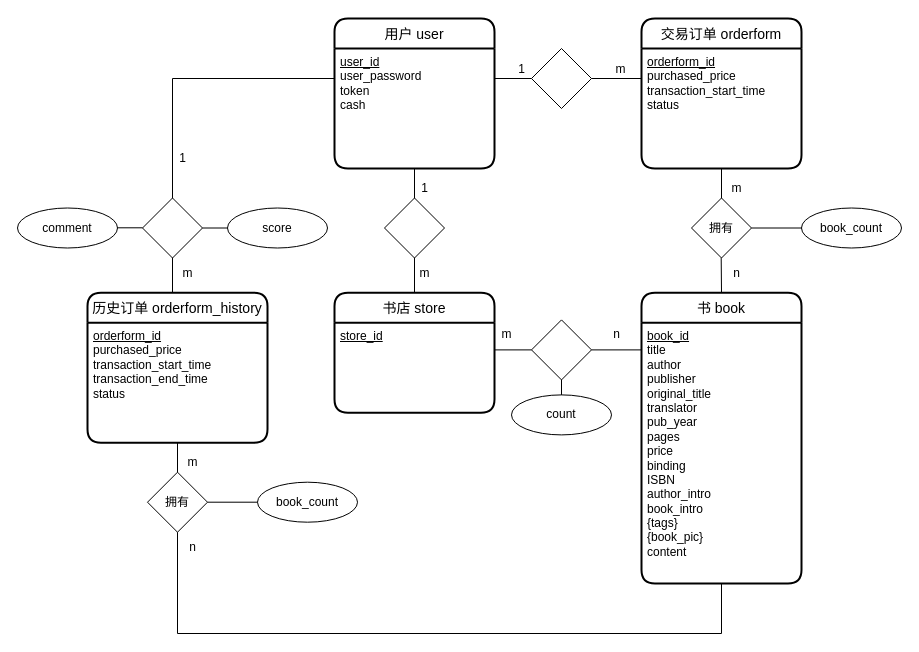
Some shapes in this 919 by 652 pixel diagram are drawn without their labels. The centre of each missing label's shape, as x and y in pixels:
"存放" goes at (561,349).
"开设" goes at (414,227).
"订购" goes at (561,78).
"评价" goes at (172,227).
